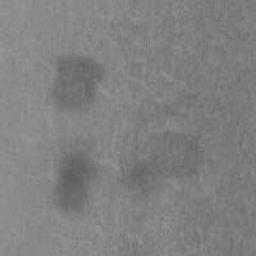Oil spot: (114, 87, 206, 205), (46, 147, 101, 215), (49, 52, 106, 116)
